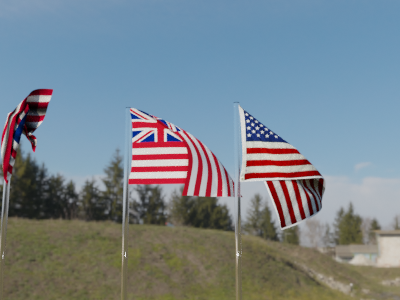America flag: (239, 107, 328, 230)
Liberia flag: (1, 89, 54, 184)
Malaysia flag: (126, 107, 236, 198)
